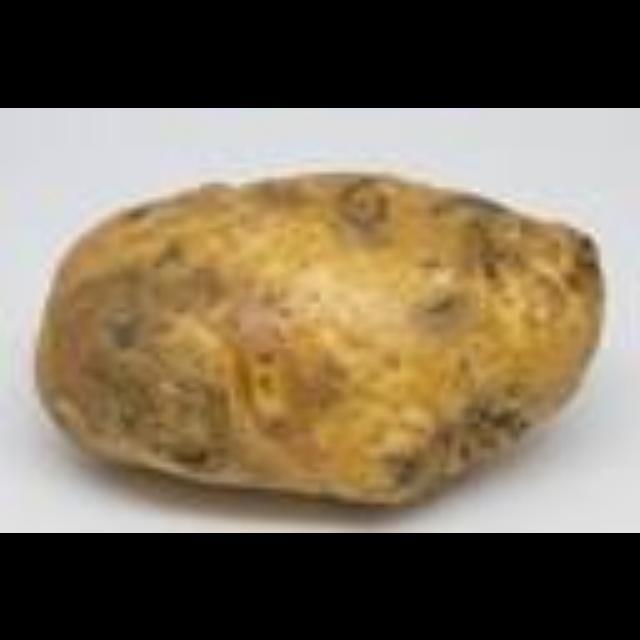Diseased-fungal potato: (29, 162, 615, 518)
